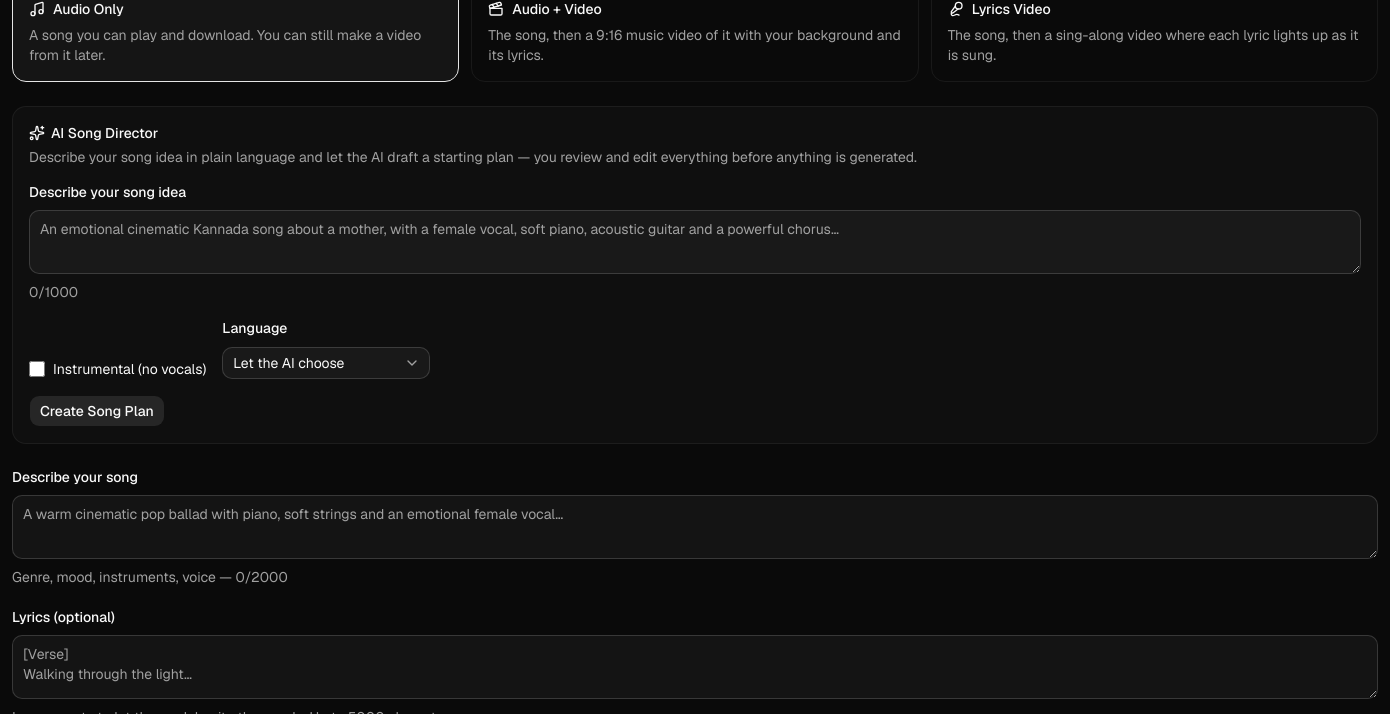
Test: CreateSongForm › shows a safe message for HTTP 422 without leaking detail
The width and height of the screenshot is (1390, 714).
In the text box labelled "Describe your song": (695, 527) [12,495,1378,559], type "an upbeat synth pop song"
(page scrolled)
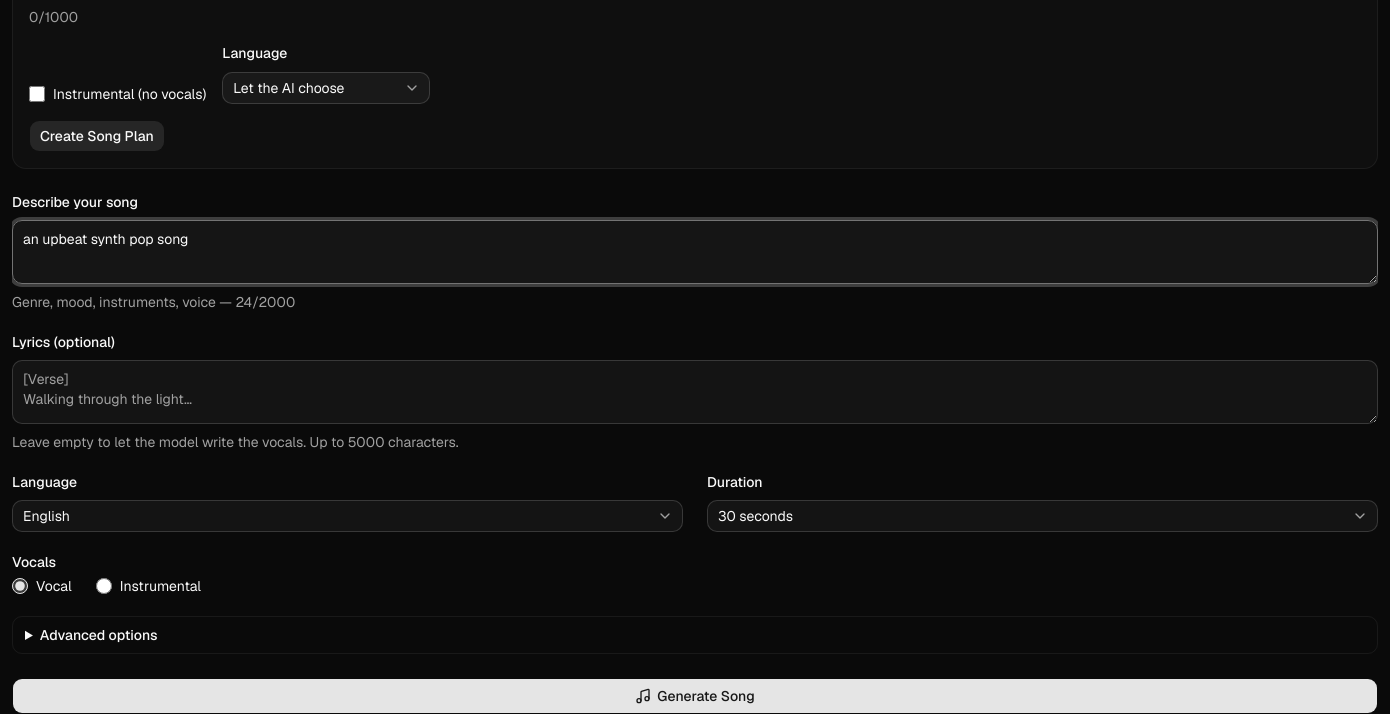
Click the button "Generate Song": (695, 696) [12,678,1378,713]
(page scrolled)
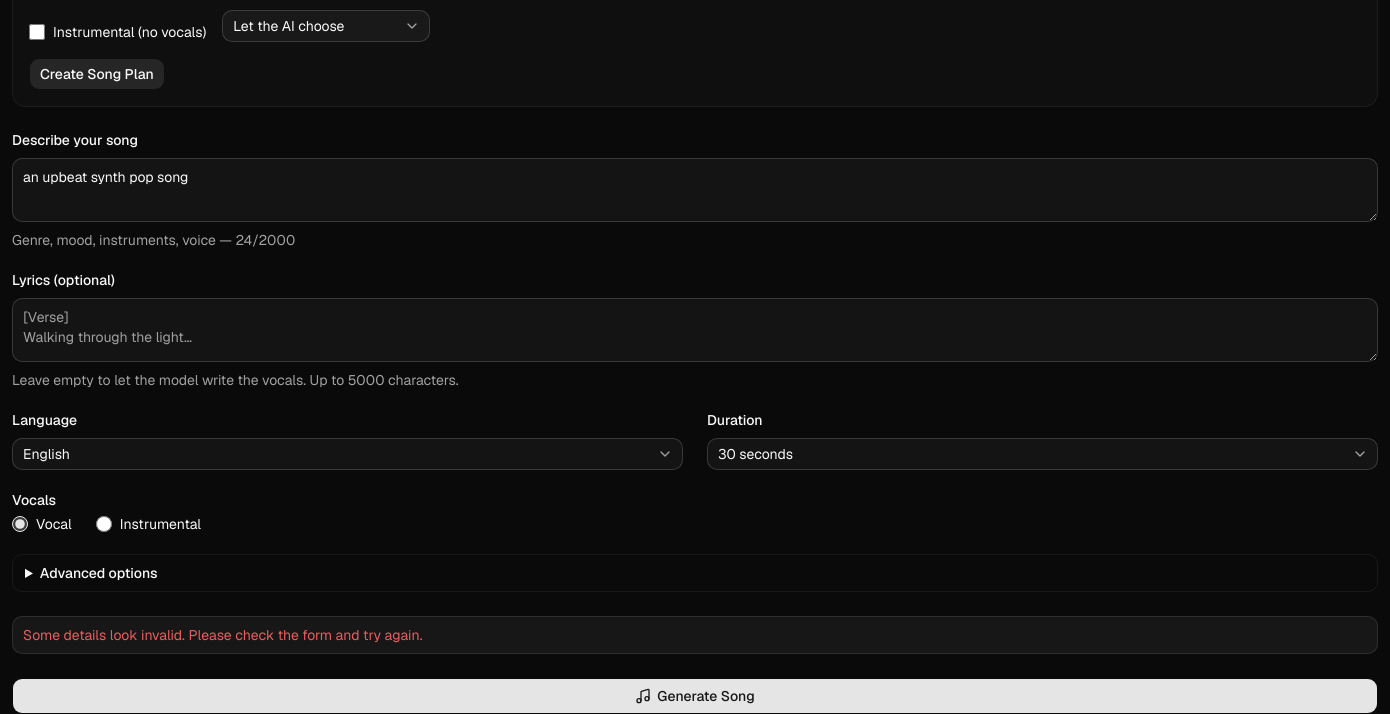
Now the message shows "details look invalid", box [23,626,423,644]
